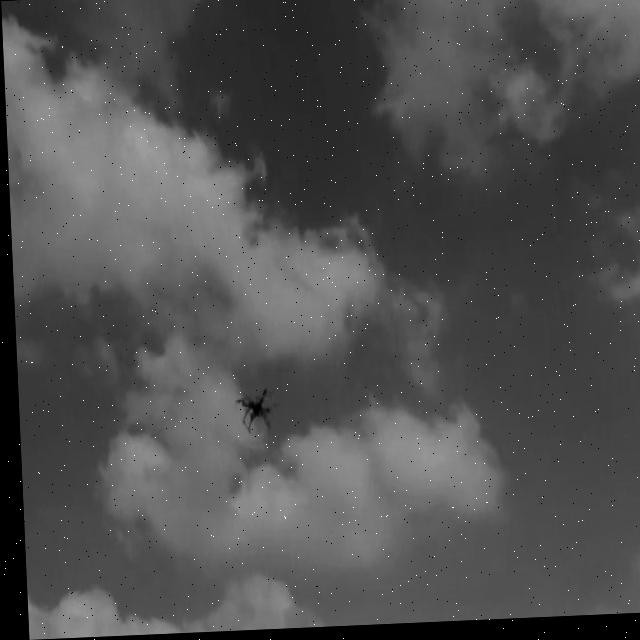drone: (230, 383, 271, 435)
